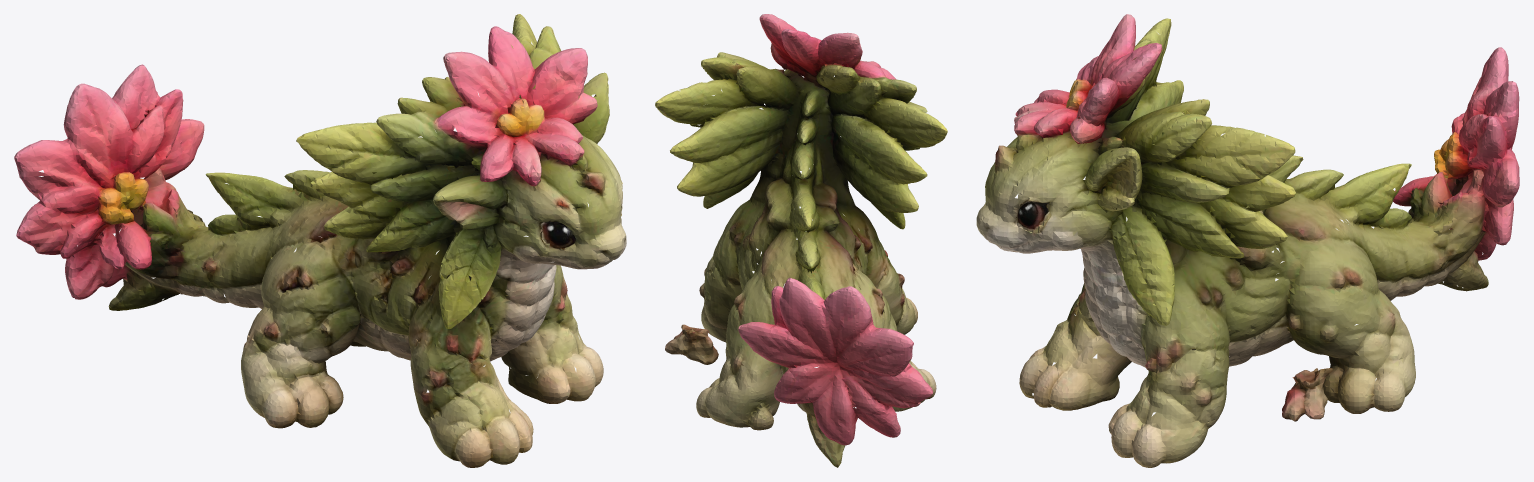
Rendered from floriss.glb.
3 renders of one model, left to right at view 1: azimuth 30°, elevation 25°; view 2: azimuth 150°, elevation 25°; view 3: azimuth 270°, elevation 25°, orthographic. The views are drawn at different scales.
Parts seen in each view (by area): view 1: plush; view 2: plush; view 3: plush.
Part boxes in pixels (left/top/right/bottom): plush: left=14, top=14, right=626, bottom=467; plush: left=655, top=14, right=947, bottom=467; plush: left=976, top=14, right=1519, bottom=467.
Bounding box in the file's own units: 0.8921 × 0.7543 × 0.9799.
1 material, 1 textured.
